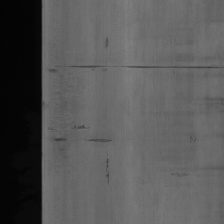crease: (53, 58, 221, 77), (86, 136, 118, 149), (103, 155, 113, 185), (70, 122, 92, 130), (53, 135, 69, 144), (105, 35, 110, 47)
